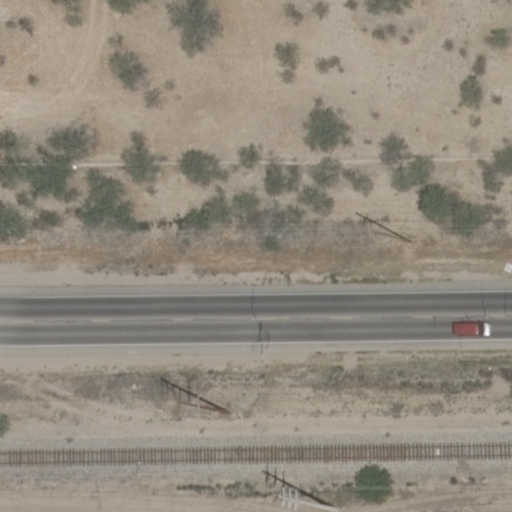DT: (359, 210, 416, 242), (258, 470, 310, 496), (185, 392, 232, 418)
